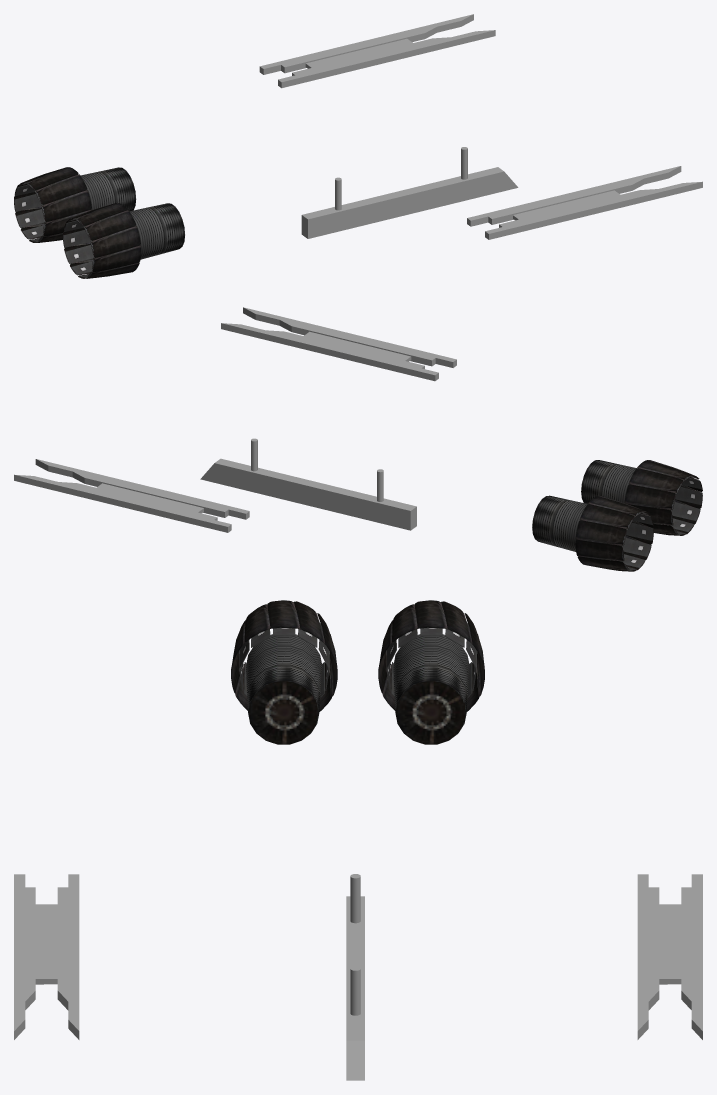
3 views of the same model, one above another, from view 1: azimuth 30°, elevation 25°; view 2: azimuth 150°, elevation 25°; view 3: azimuth 270°, elevation 25° (orthographic). The views are drawn at different scales.
Visible parts, largest first — view 1: NozzleR03.001, NozzleR03.002, 立方体.001, 立方体.002, 立方体; view 2: NozzleR03.002, NozzleR03.001, 立方体.001, 立方体.002, 立方体; view 3: NozzleR03.002, NozzleR03.001, 立方体, 立方体.002, 立方体.001.
Boxes of the visible parts, x1=… form: NozzleR03.001: x1=63, y1=203, x2=184, y2=278; NozzleR03.002: x1=14, y1=167, x2=136, y2=242; 立方体.001: x1=301, y1=147, x2=518, y2=238; 立方体.002: x1=259, y1=14, x2=495, y2=88; 立方体: x1=467, y1=166, x2=702, y2=239; NozzleR03.002: x1=532, y1=495, x2=653, y2=571; NozzleR03.001: x1=581, y1=460, x2=702, y2=535; 立方体.001: x1=200, y1=438, x2=416, y2=530; 立方体.002: x1=14, y1=459, x2=249, y2=532; 立方体: x1=221, y1=307, x2=456, y2=381; NozzleR03.002: x1=378, y1=600, x2=484, y2=744; NozzleR03.001: x1=231, y1=600, x2=337, y2=744; 立方体: x1=14, y1=874, x2=79, y2=1039; 立方体.002: x1=637, y1=874, x2=702, y2=1039; 立方体.001: x1=346, y1=874, x2=364, y2=1080.
Bounding box in the file's own units: 7.92 × 1.4 × 5.88.
14 materials, 1 textured.
